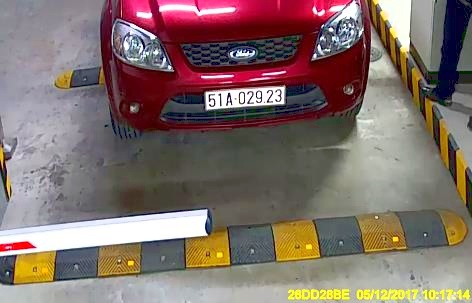plate: (203, 86, 287, 108)
